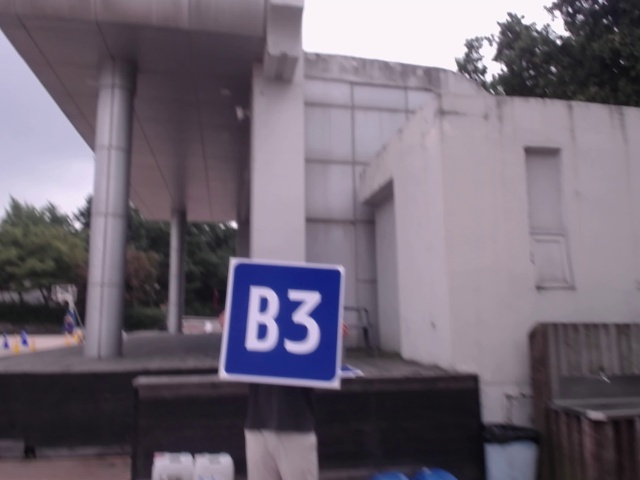delivery_b3: (224, 260, 340, 384)
